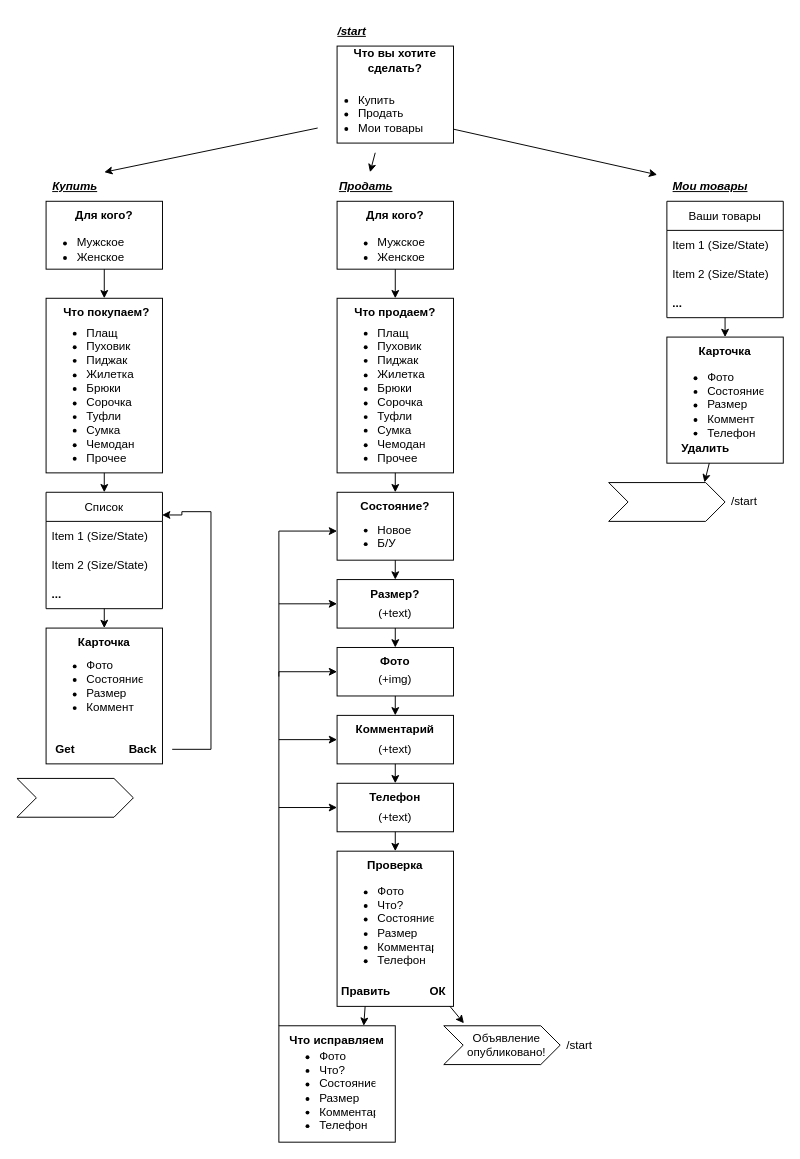
The diagram is 800 pixels wide and 1159 high, and some of its shapes have lost their labels. Each missing label, with the centre of its shape:
"дать контакты" goes at (74,797).
"Объявление удалено!" goes at (666,501).
